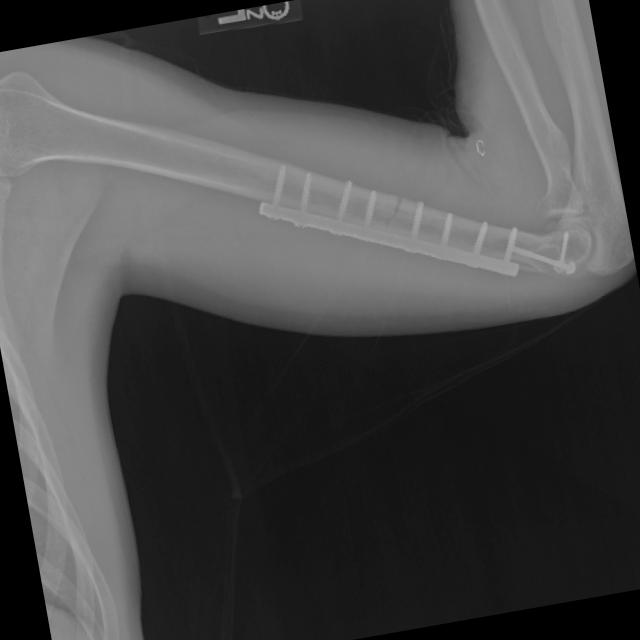humerus fracture: (373, 190, 416, 233)
